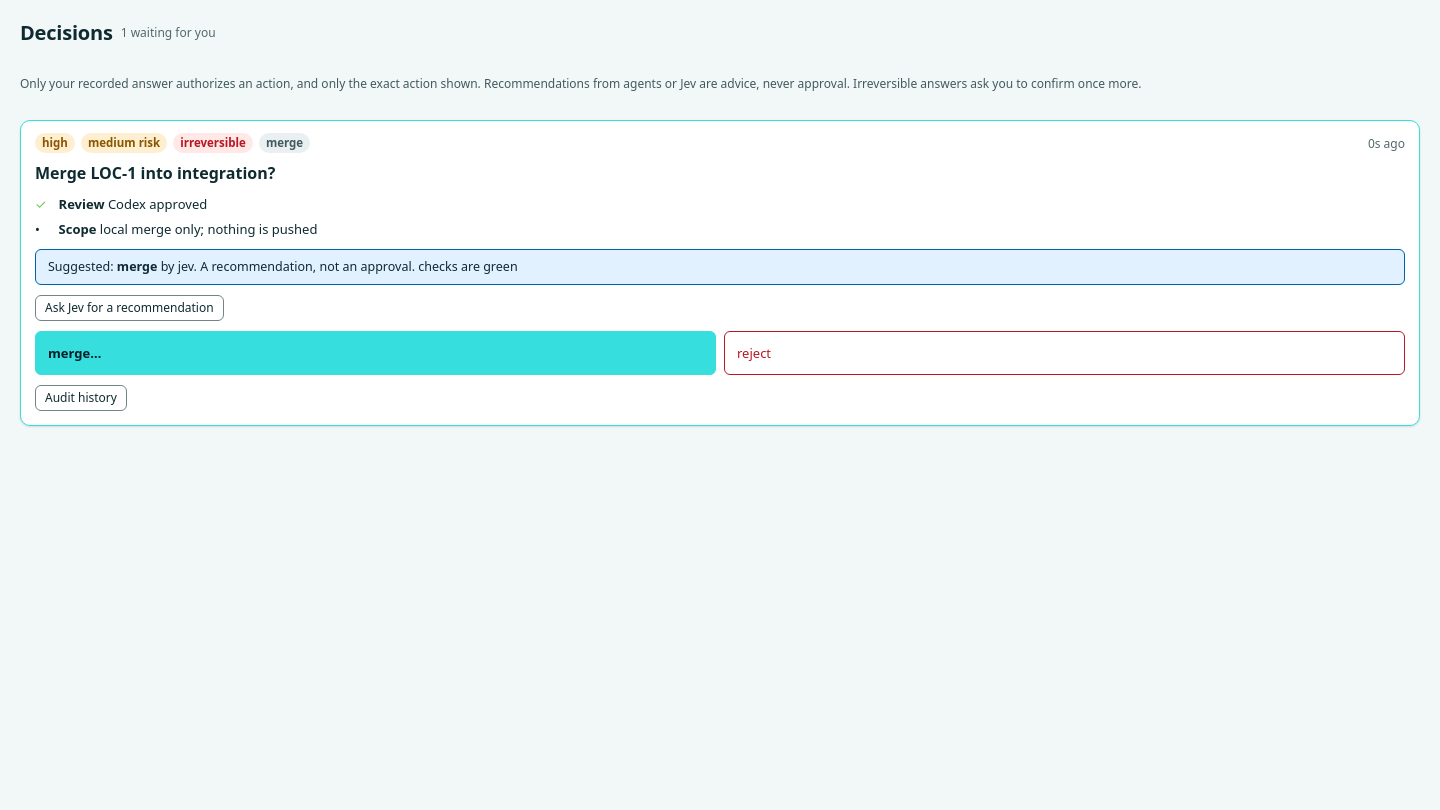
Scenario: Decisions › shows evidence, risk and a second confirmation for irreversible merge decisions; Jev is advice only
The width and height of the screenshot is (1440, 810).
Check: the text "Merge LOC-1 into integration?" is shown, box x1=35 y1=162 x2=275 y2=184
Check: the text "Review Codex approved" is shown, box x1=59 y1=195 x2=207 y2=213
Click the button "merge…" at (69,353), box x1=35 y1=331 x2=716 y2=375
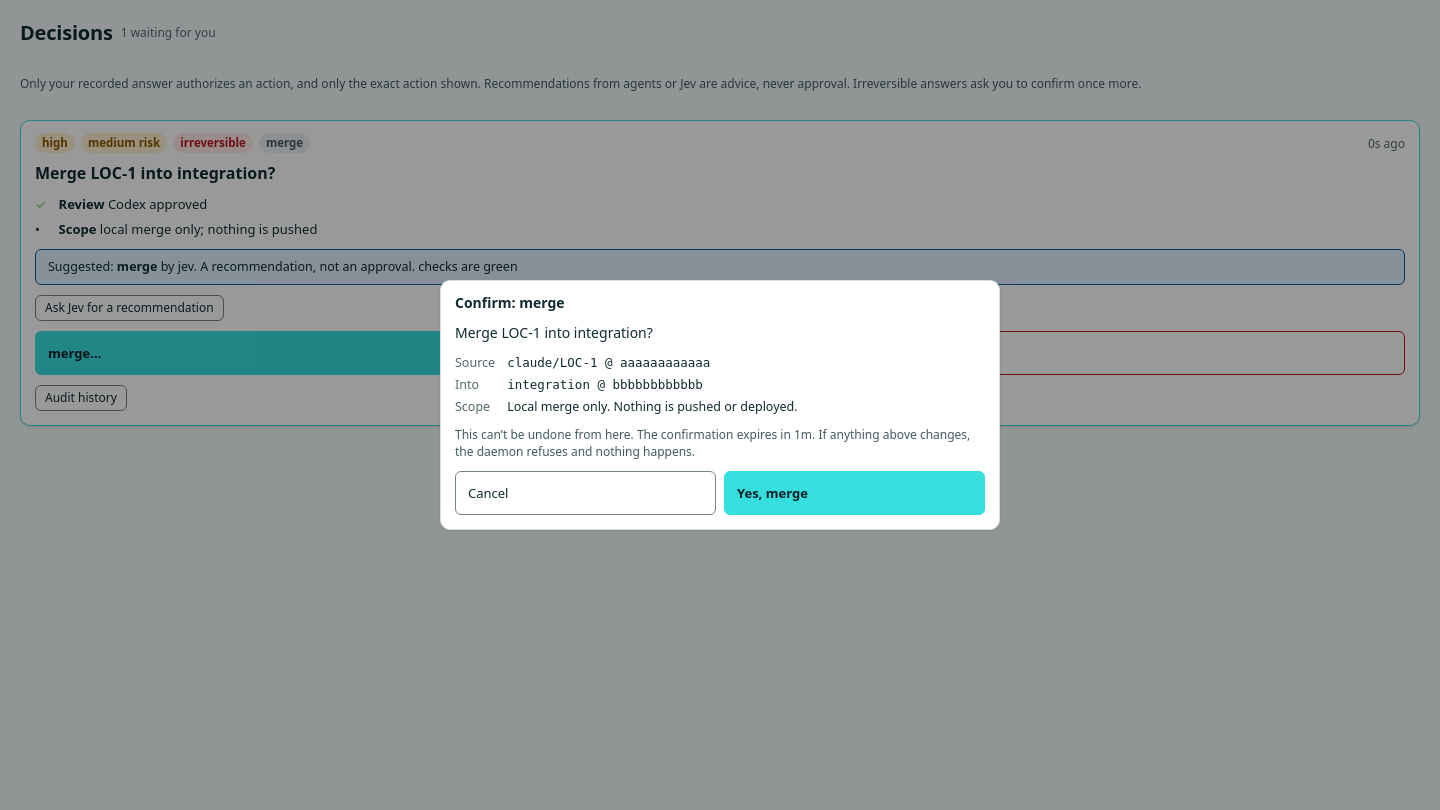
Check: the dialog "Confirm" is shown, box x1=440 y1=280 x2=1000 y2=530
Check: the text "Local merge only. Nothing is pushed or deployed." is shown, box x1=507 y1=398 x2=798 y2=415
